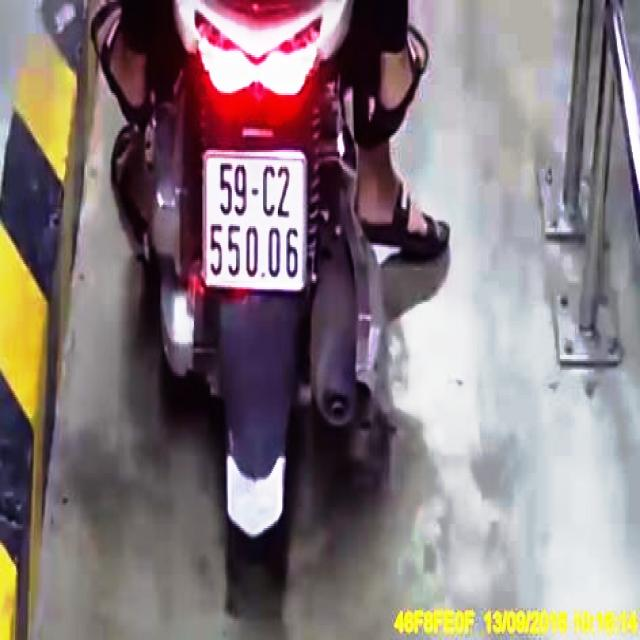license_plate: (204, 150, 305, 290)
